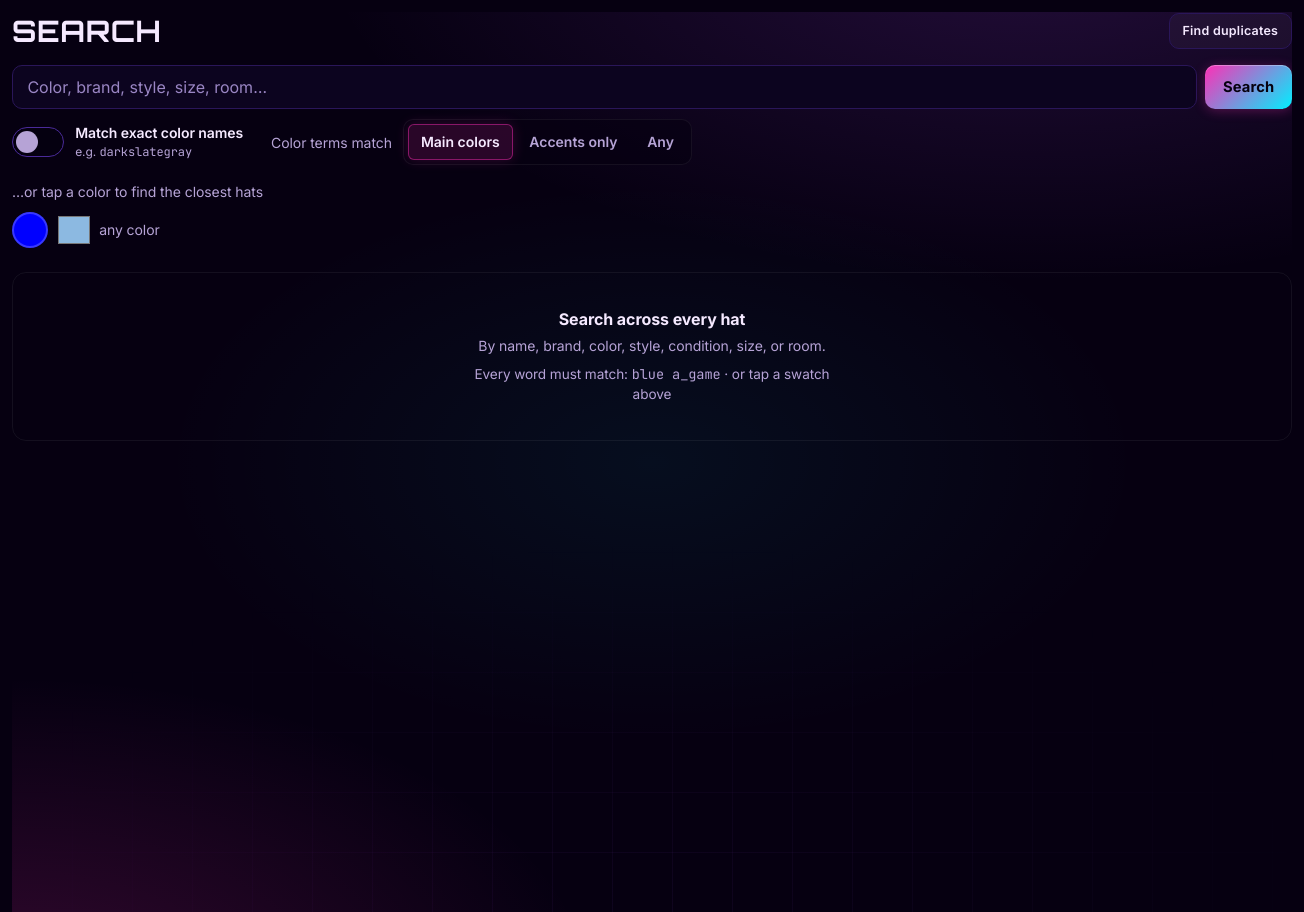
Test: SearchPage live search › keeps the last results on screen while the next search loads
Type "blue" into the search field named "Search hats" at (605, 87), box [12,65,1197,109]
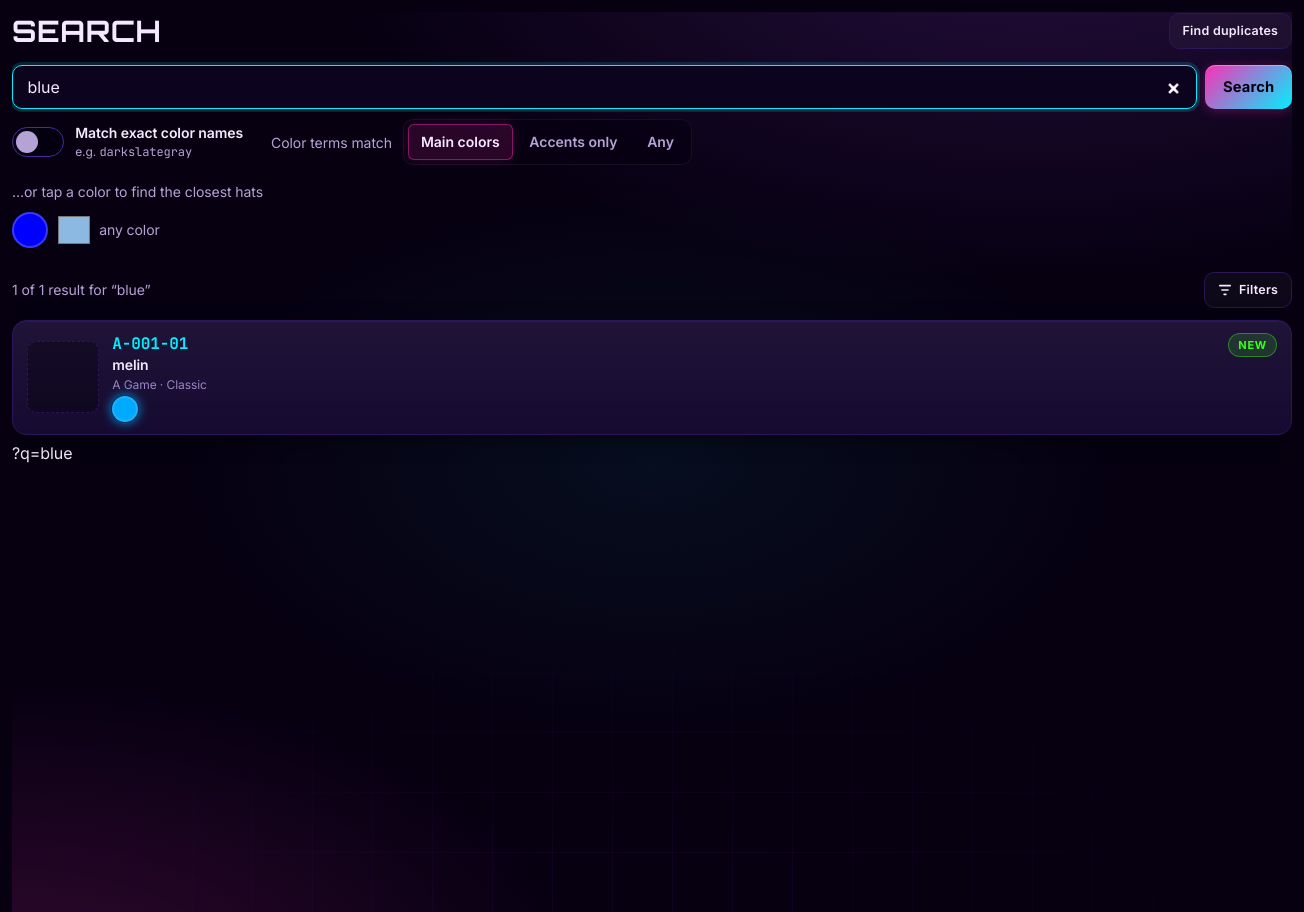
Result: the text "A-001-01" is shown at [112,333,188,354]
Type " cap" into the search field named "Search hats" at (605, 87), box [12,65,1197,109]
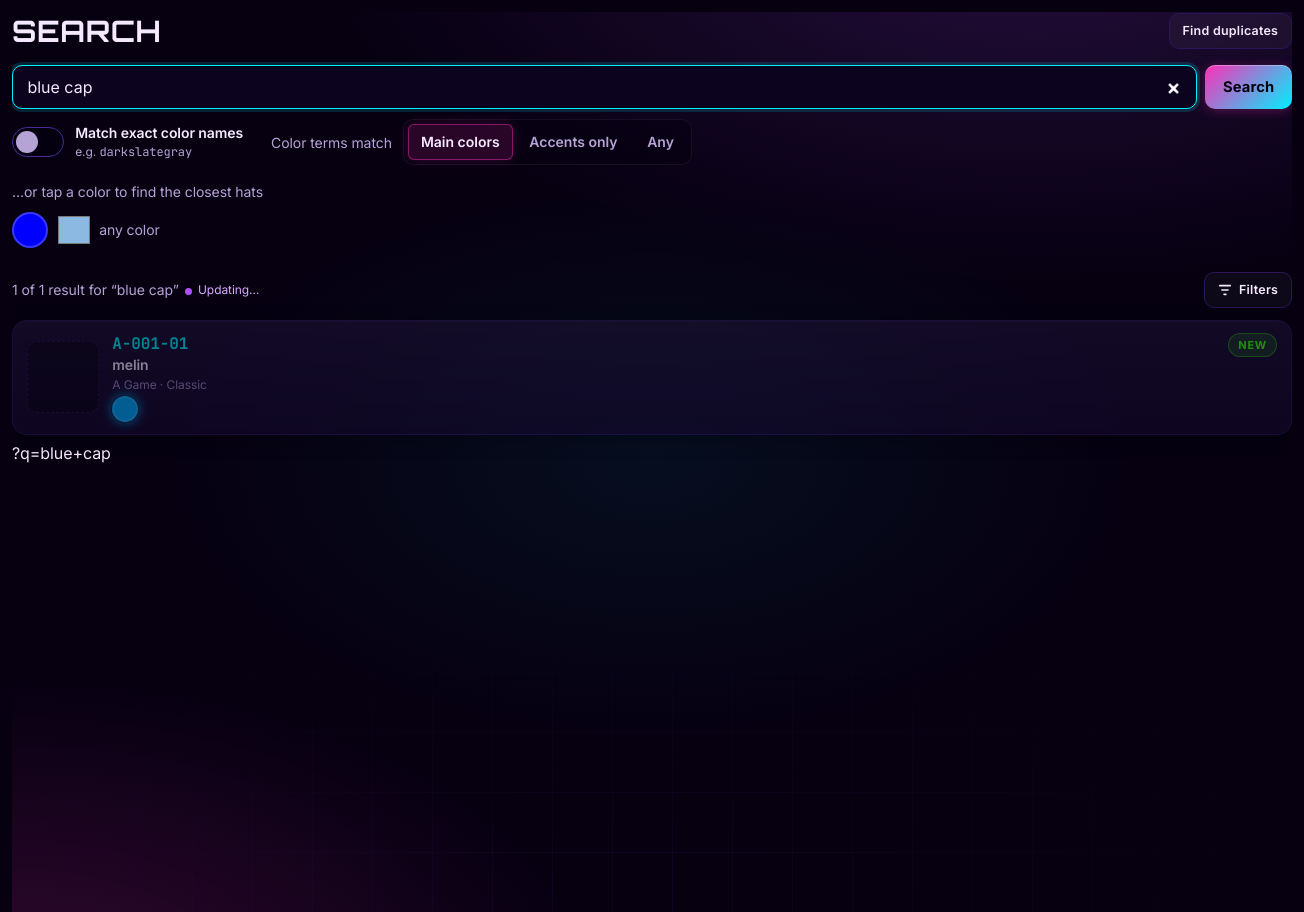
Result: the text "A-001-01" is shown at [112,333,188,354]
Result: the text "Updating…" is shown at [185,282,259,298]
